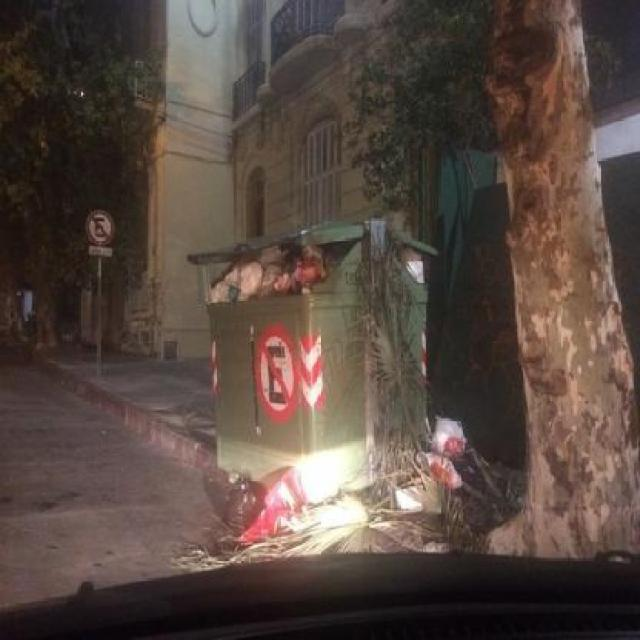garbage: (362, 233, 500, 479), (188, 477, 502, 554), (196, 255, 323, 294)
